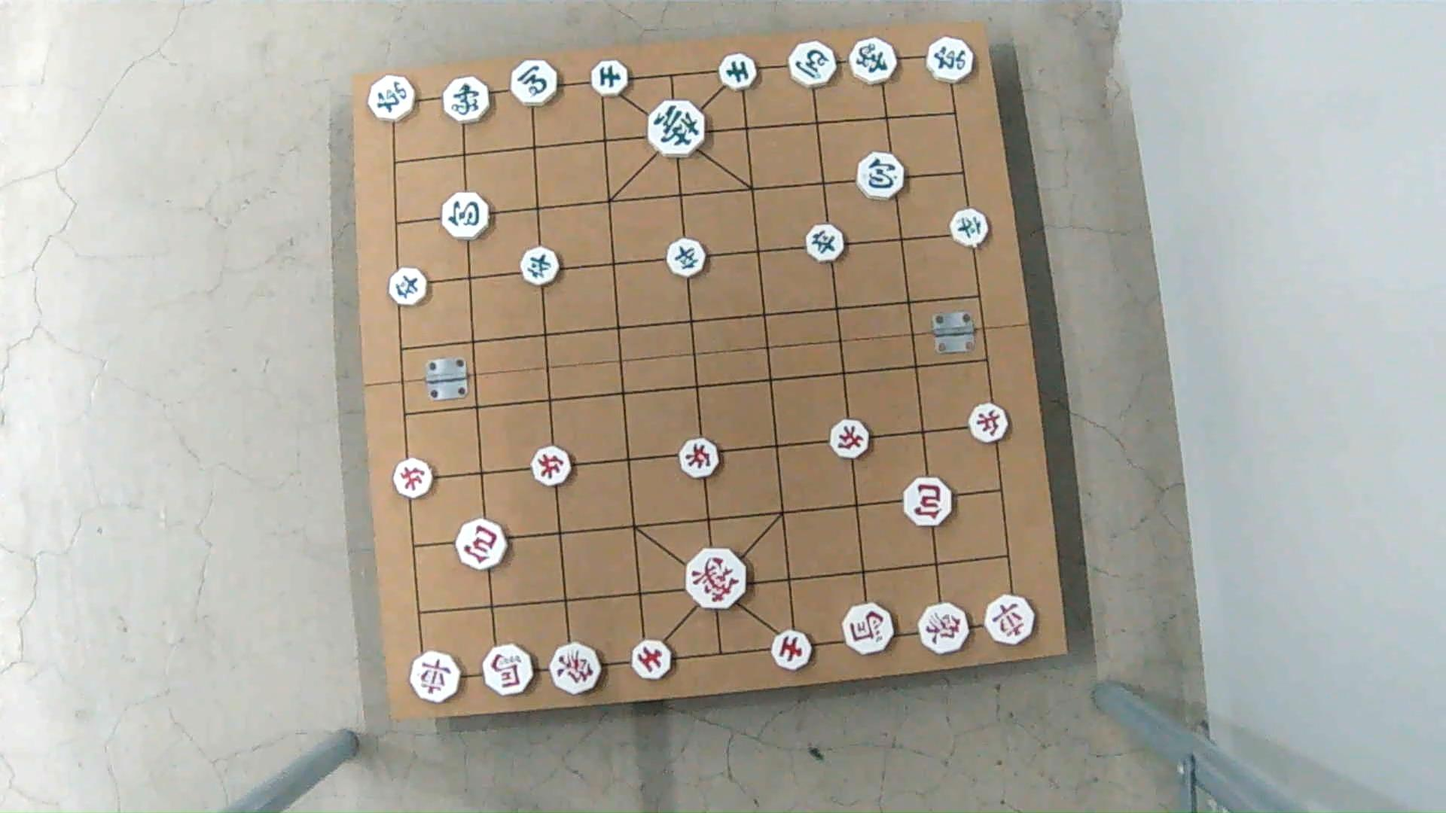cha_green: (924, 33, 976, 84), (369, 78, 419, 120)
cha_red: (983, 598, 1039, 647), (410, 653, 463, 702)
jol_green: (666, 239, 709, 275), (389, 269, 432, 303), (949, 212, 993, 245), (519, 250, 562, 282), (805, 227, 848, 259)
jol_red: (678, 439, 721, 476), (966, 405, 1010, 441), (529, 449, 573, 485), (392, 462, 435, 498), (828, 423, 871, 458)
ma_green: (789, 43, 841, 85), (511, 63, 561, 105)
ma_red: (843, 604, 898, 654), (485, 647, 539, 696)
po_green: (439, 195, 491, 238), (854, 153, 905, 196)
po_red: (454, 523, 508, 568), (901, 480, 954, 525)
sa_green: (593, 63, 633, 97), (717, 53, 757, 87)
sa_red: (630, 638, 672, 678), (773, 631, 816, 668)
sang_green: (443, 79, 493, 123), (846, 40, 898, 82)
sang_red: (917, 602, 974, 655), (548, 641, 600, 692)
wang_green: (645, 101, 705, 154)
wang_red: (682, 550, 748, 606)
